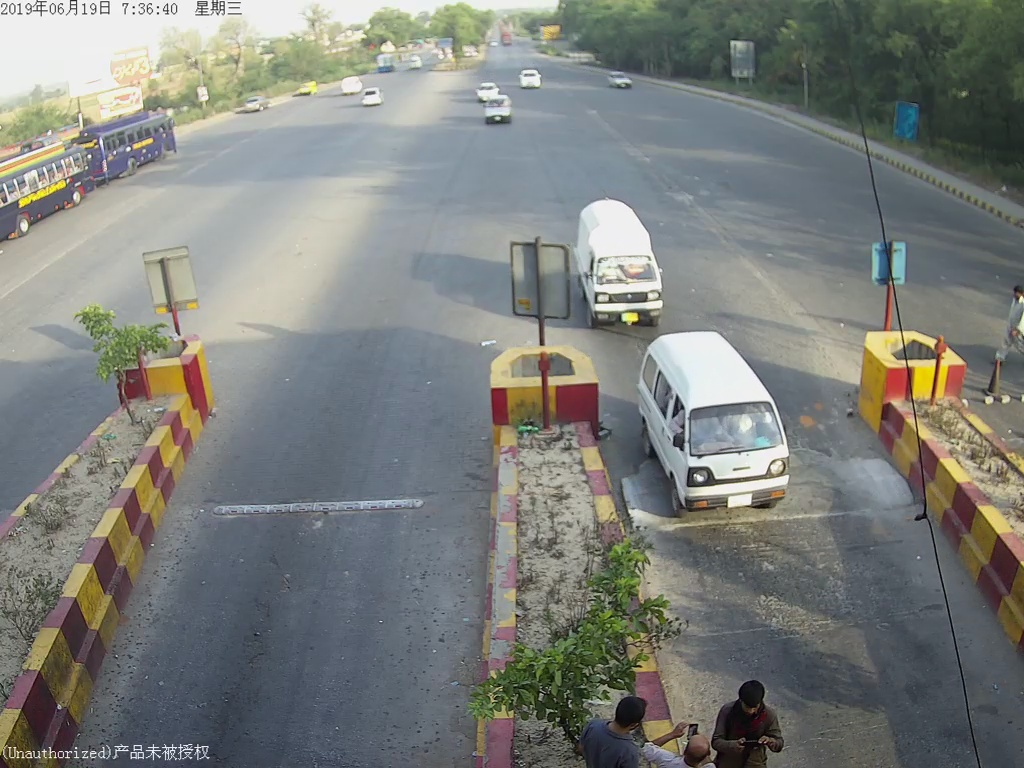Cat-1: (631, 327, 801, 510), (572, 193, 671, 330), (481, 87, 515, 124)
